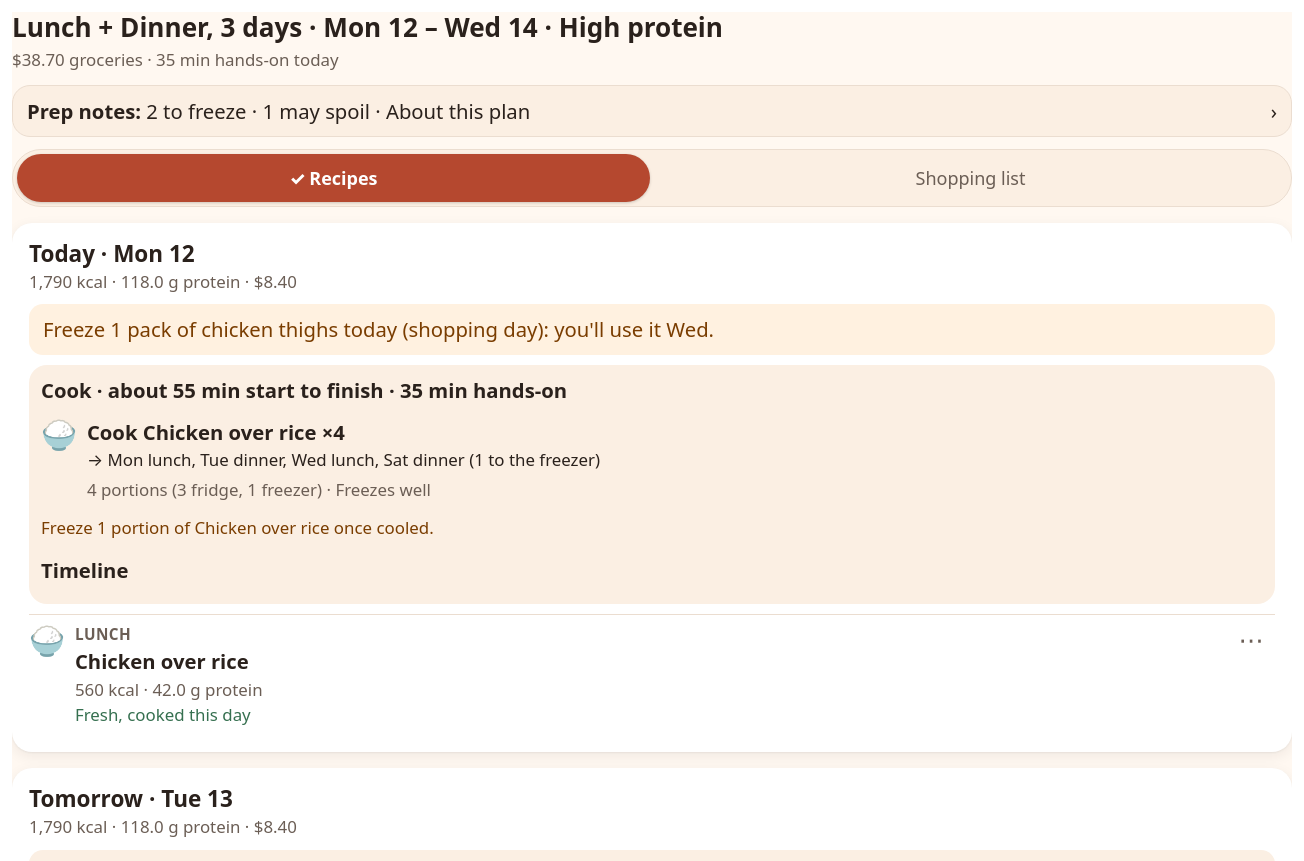
Test: C6: the plan view (step 2b.7) › Recipes | Shopping list: the list is read-only here, opens in Grocery, and the choice is remembered
Click the button "Shopping list".
click(970, 178)  # box [654,154,1287,202]
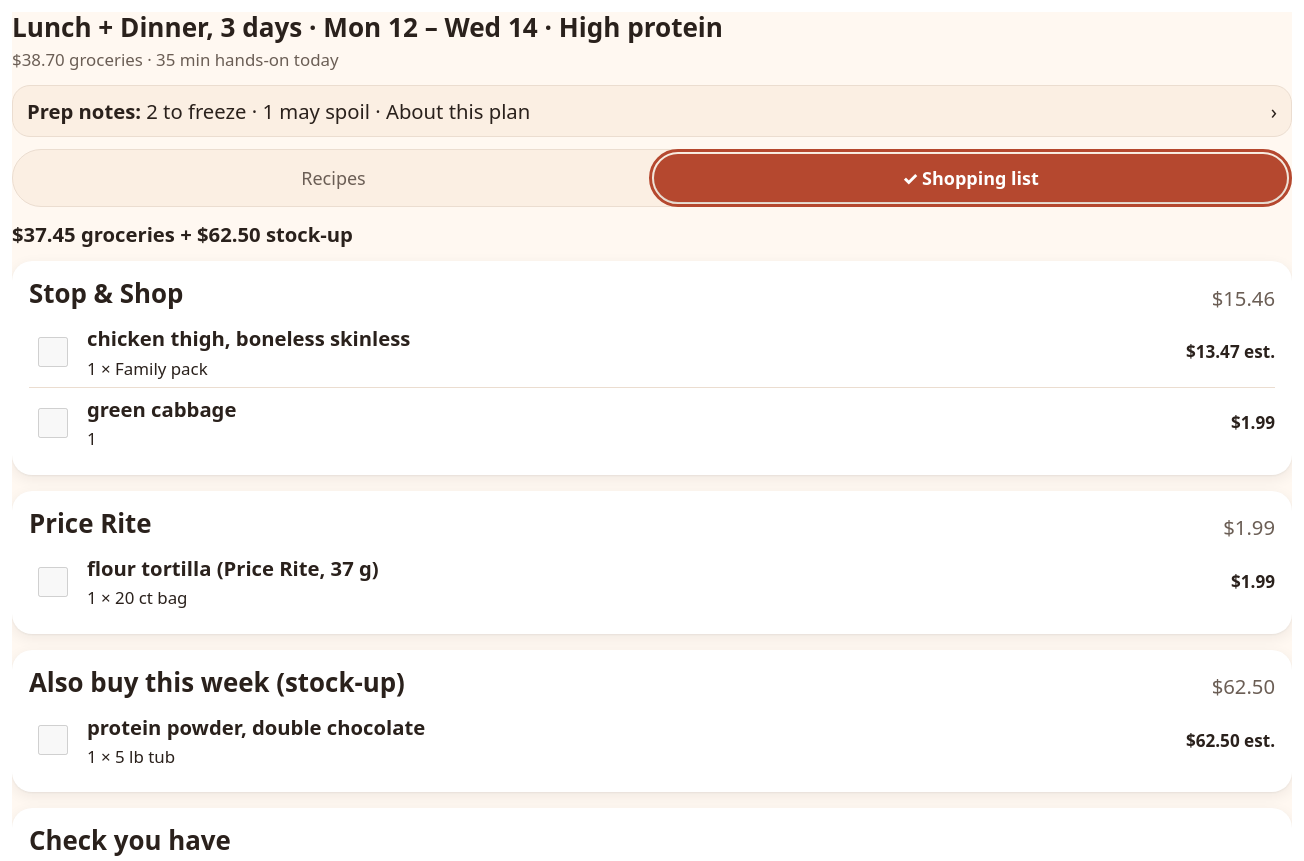
expect the checkbox named "Got chicken thigh" is disabled: met, box [38,337,68,367]
expect the heading "Stop & Shop" is shown: met, box [29,278,183,309]
